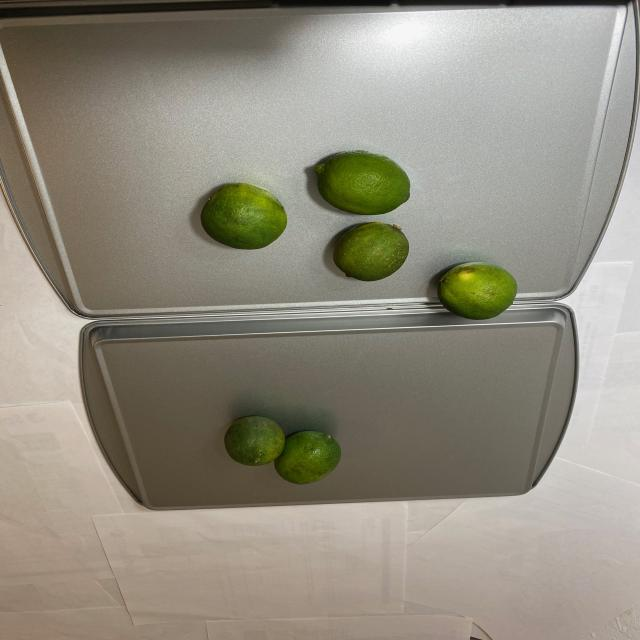lemon: (196, 137, 517, 322), (228, 414, 342, 487)
